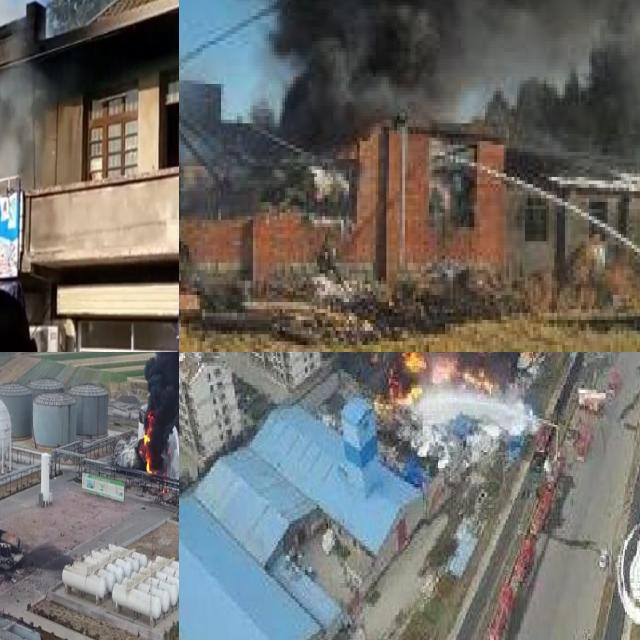fire: (380, 352, 491, 401), (138, 413, 157, 477)
smoke: (265, 0, 640, 123), (0, 352, 154, 640), (0, 0, 47, 196)
